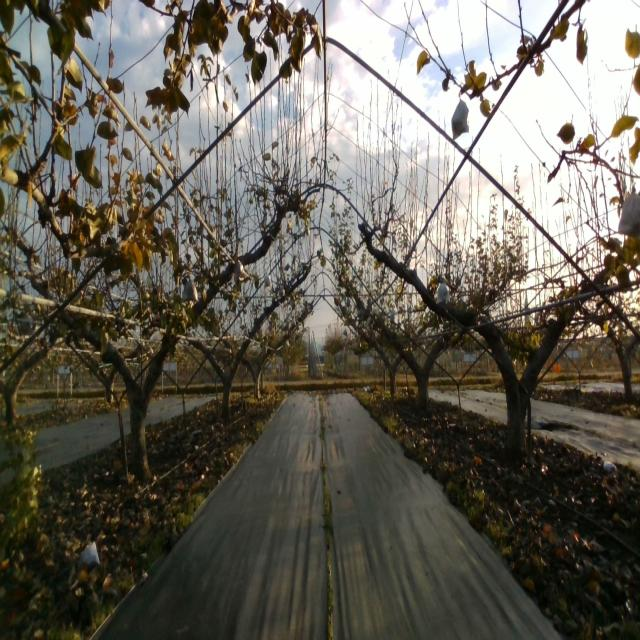pearbags: (617, 186, 640, 237), (451, 90, 469, 142), (182, 277, 199, 304), (434, 282, 450, 304), (234, 259, 248, 284)
